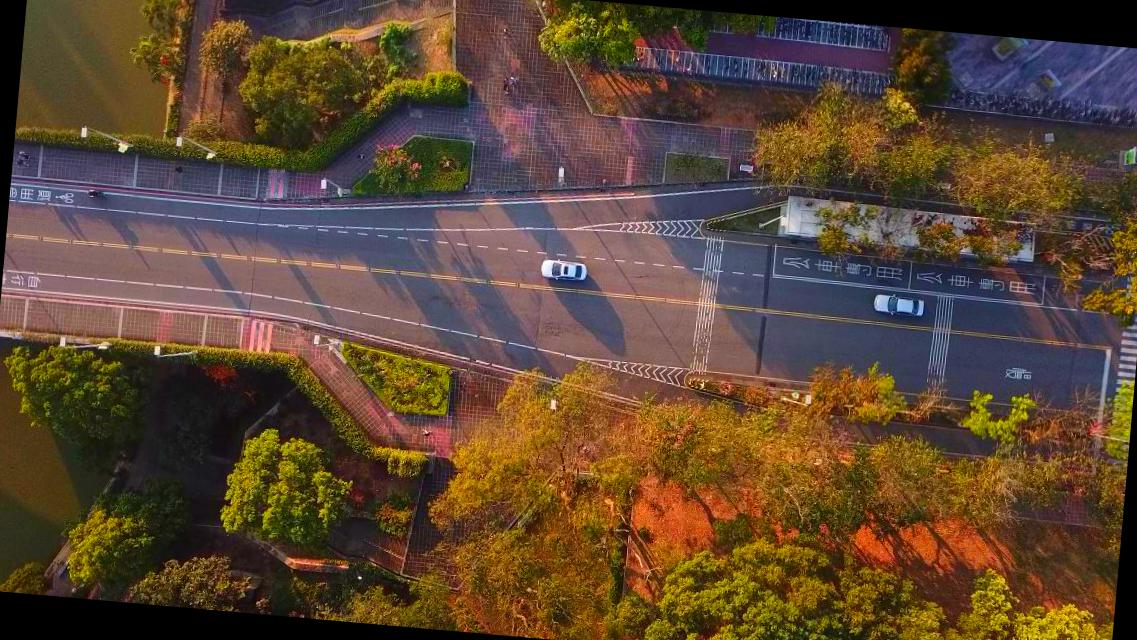vehicle: (872, 292, 924, 318), (540, 258, 588, 284)
